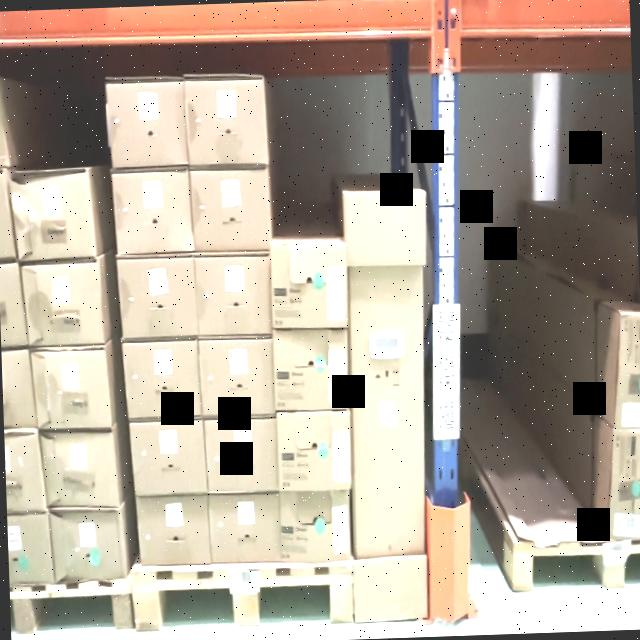box: (344, 191, 425, 556), (11, 171, 94, 261), (106, 81, 187, 168), (186, 78, 265, 166), (21, 264, 103, 346), (114, 172, 192, 254), (30, 351, 111, 429), (194, 256, 272, 336), (120, 258, 197, 339), (192, 170, 269, 250), (271, 245, 347, 326), (198, 339, 274, 418), (273, 330, 348, 410), (39, 433, 118, 506), (126, 341, 198, 418), (277, 413, 350, 488), (50, 511, 125, 584), (206, 419, 278, 491), (134, 421, 204, 494), (136, 496, 210, 564), (280, 490, 350, 560), (210, 494, 281, 562), (607, 430, 640, 539), (7, 513, 52, 583), (4, 435, 46, 510), (614, 314, 640, 429), (1, 349, 37, 427), (0, 261, 27, 345), (0, 170, 16, 258), (0, 99, 9, 167)
